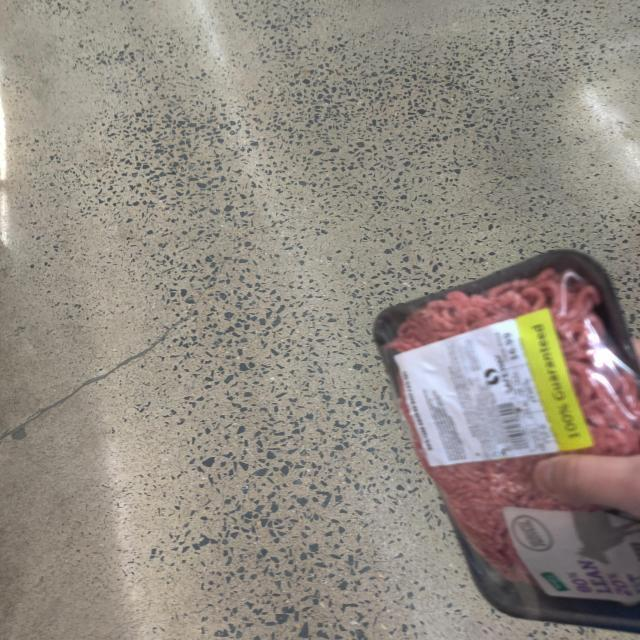Meat: (361, 279, 640, 640)
